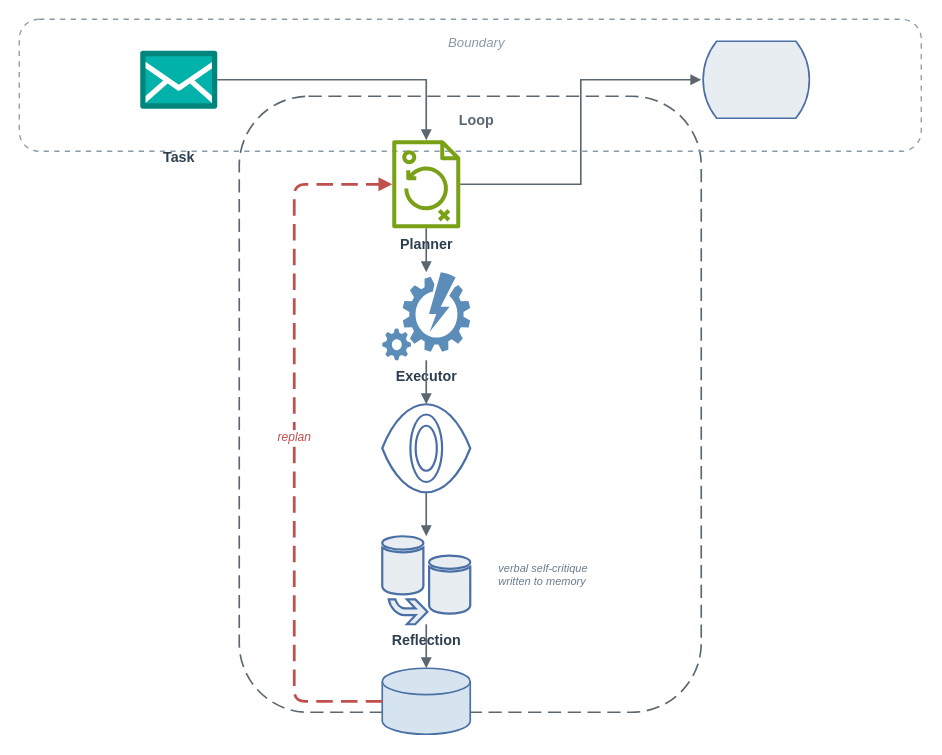
Some shapes in this 942 by 755 pixel diagram are drawn without their labels. The shapes that lost their labels are listed below. From the top down, each one's centre as x and y in pixels, then its label:
the point at 756,79: Next Action
the point at 426,448: Observation
the point at 426,701: Memory
